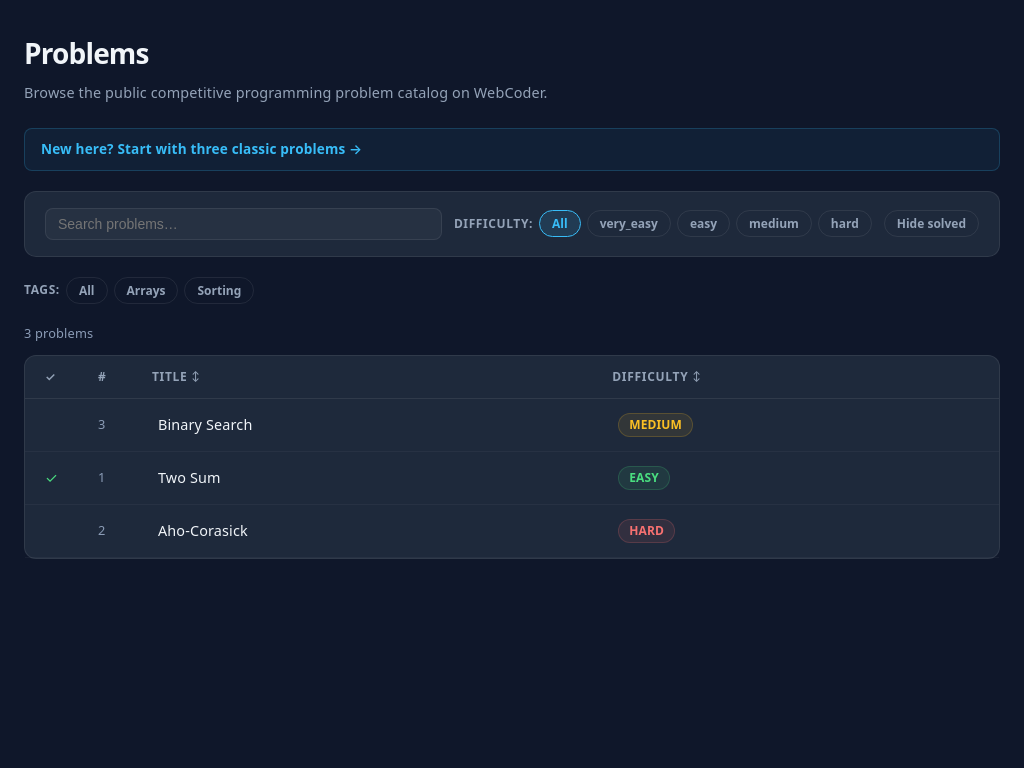
Scenario: Wave A: tag facet [F4] + solved indicators [F5] + curriculum axis [EDU-9] › hides solved rows when the hide-solved toggle is on
Click the button "Hide solved" at (931, 224), box [884,210,979,237]
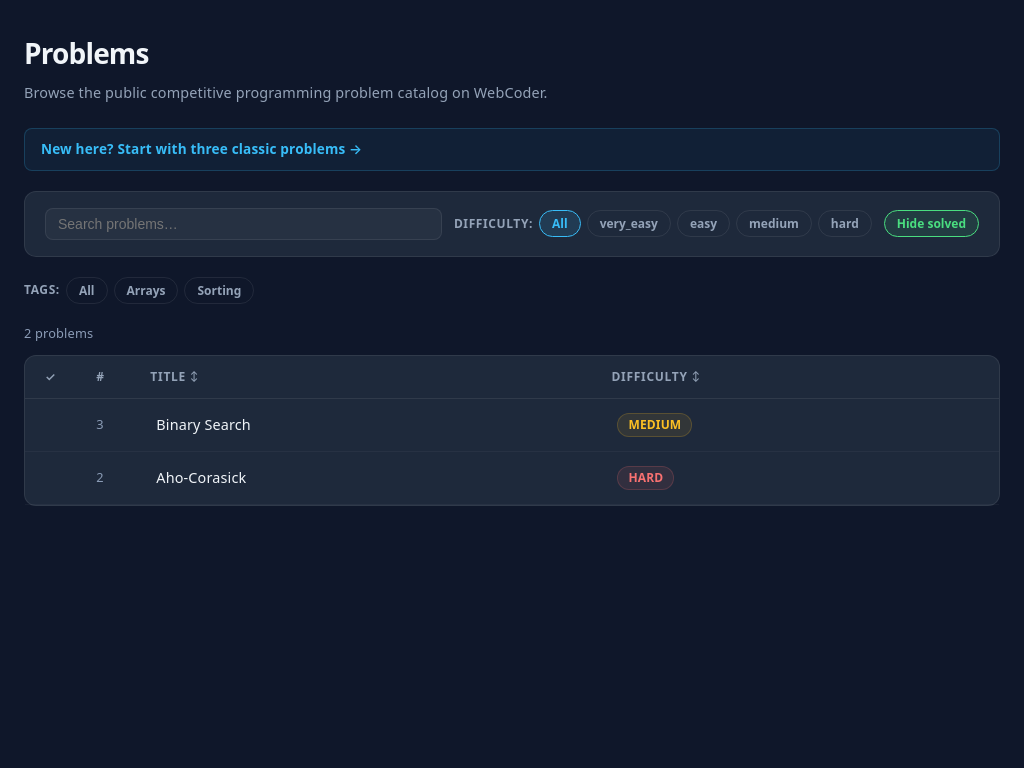
Expected: the link "Aho-Corasick" is shown, [156,468,246,487]
Now the link "Two Sum" is gone
